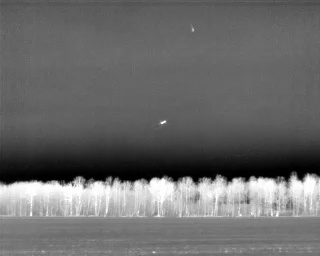DRONE: (156, 116, 171, 130)
